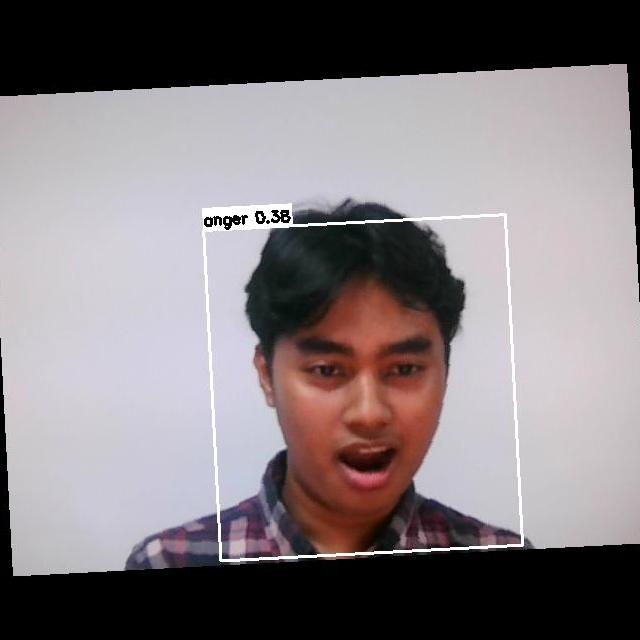Surprised: (277, 313, 458, 499)
